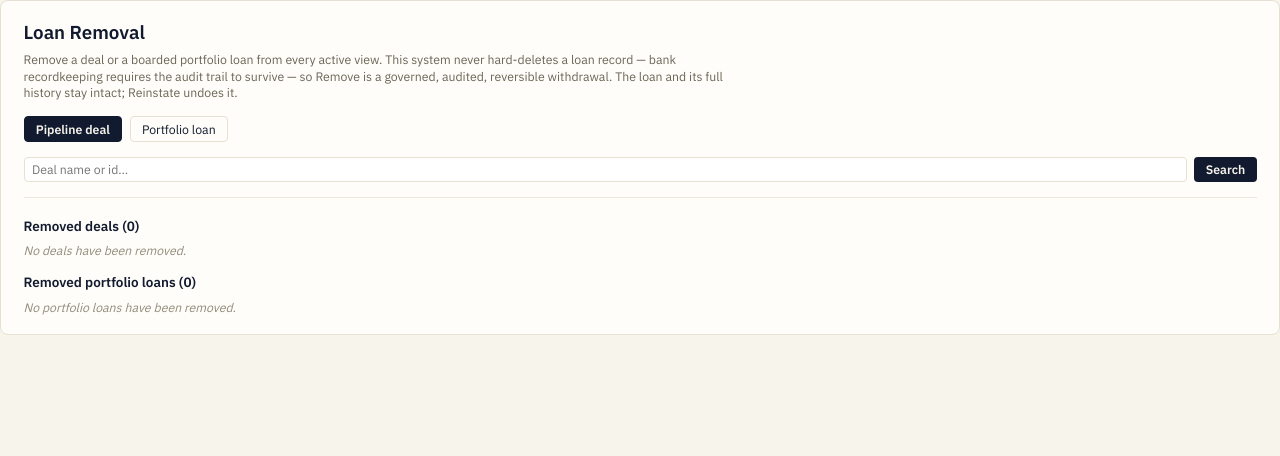
Test: AdminLoanRemovalPanel › withdraws a deal through the governed write with a reason
This screenshot has width=1280, height=456.
Type "Acme" into the field named "Search deals by name or id" at [605, 169], box left=24, top=156, right=1187, bottom=182
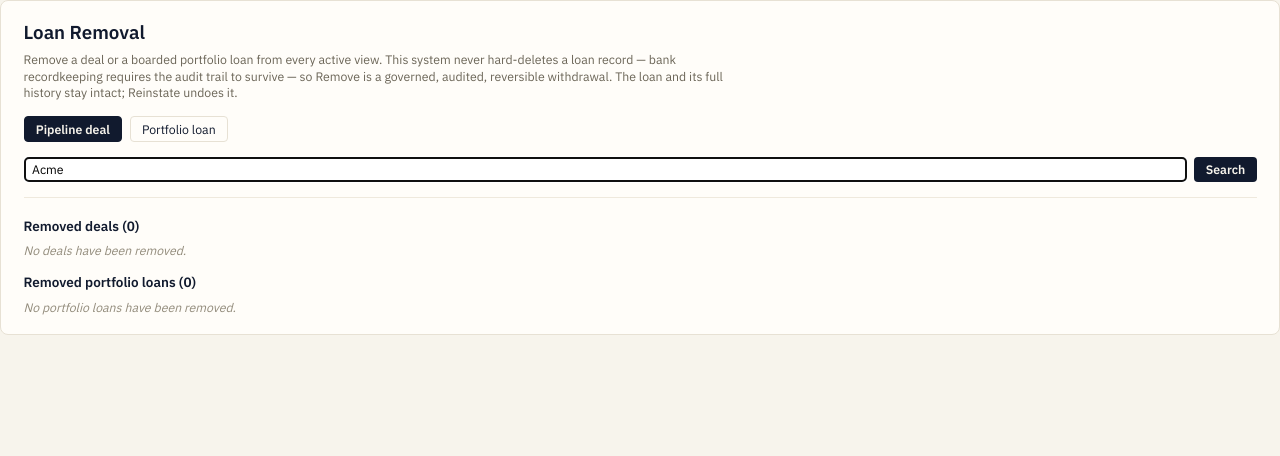
Click the button "Search" at [1225, 169], box left=1194, top=156, right=1256, bottom=182
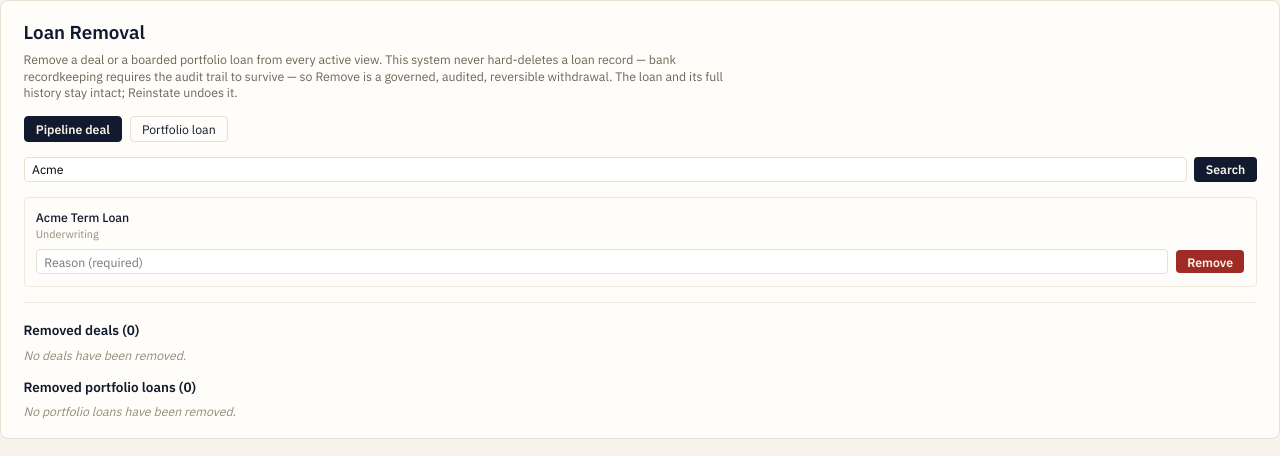
Expected: the text "Acme Term Loan" is shown, left=36, top=209, right=129, bottom=225
Type "duplicate entry" into the field named "Reason for removing Acme Term Loan" at [602, 262], box left=36, top=249, right=1168, bottom=274
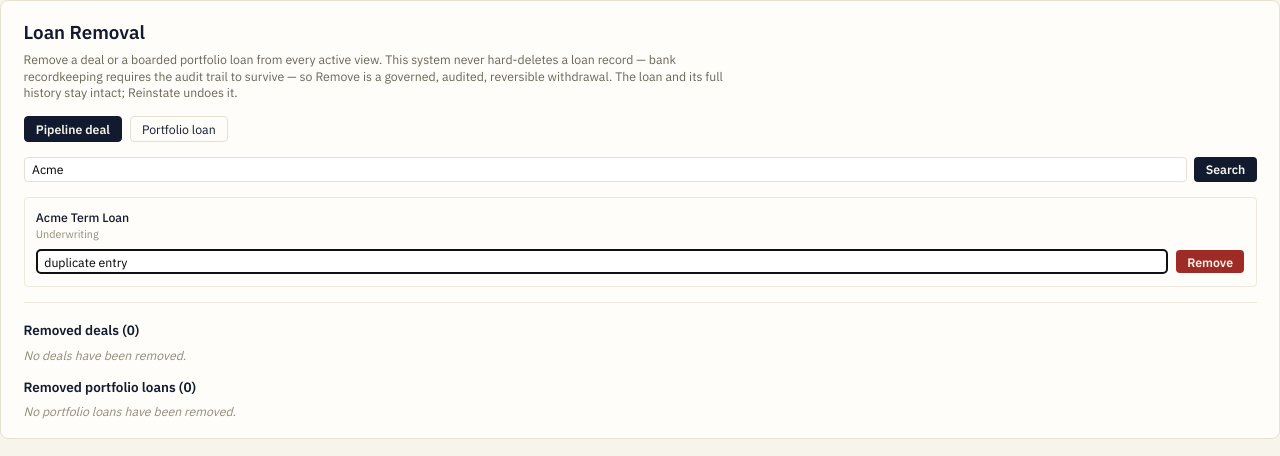
Click the button "Remove" at [1210, 262], box left=1176, top=250, right=1244, bottom=273
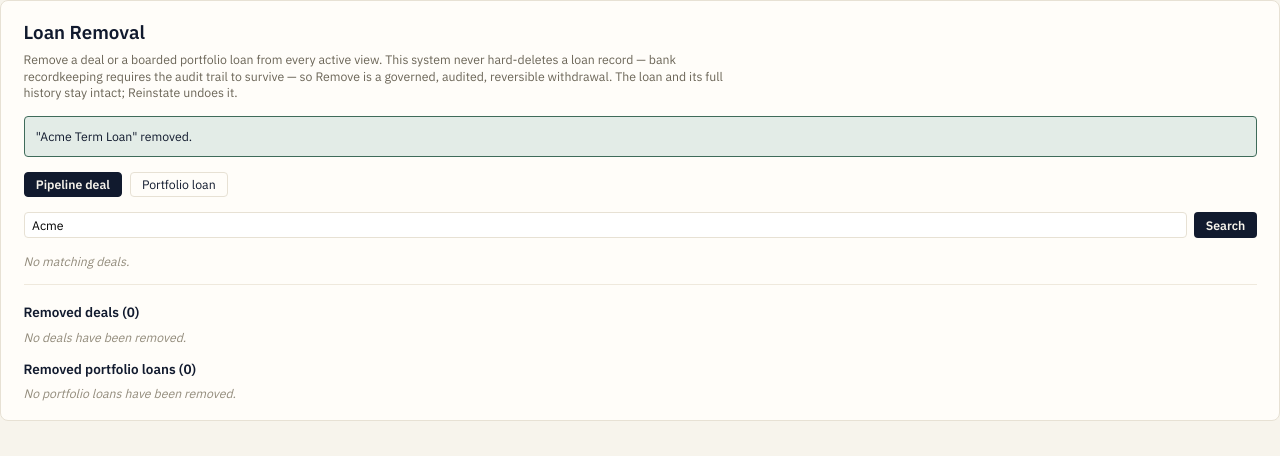
Expected: the text "\"Acme Term Loan\" removed." is shown, left=24, top=116, right=1256, bottom=156
